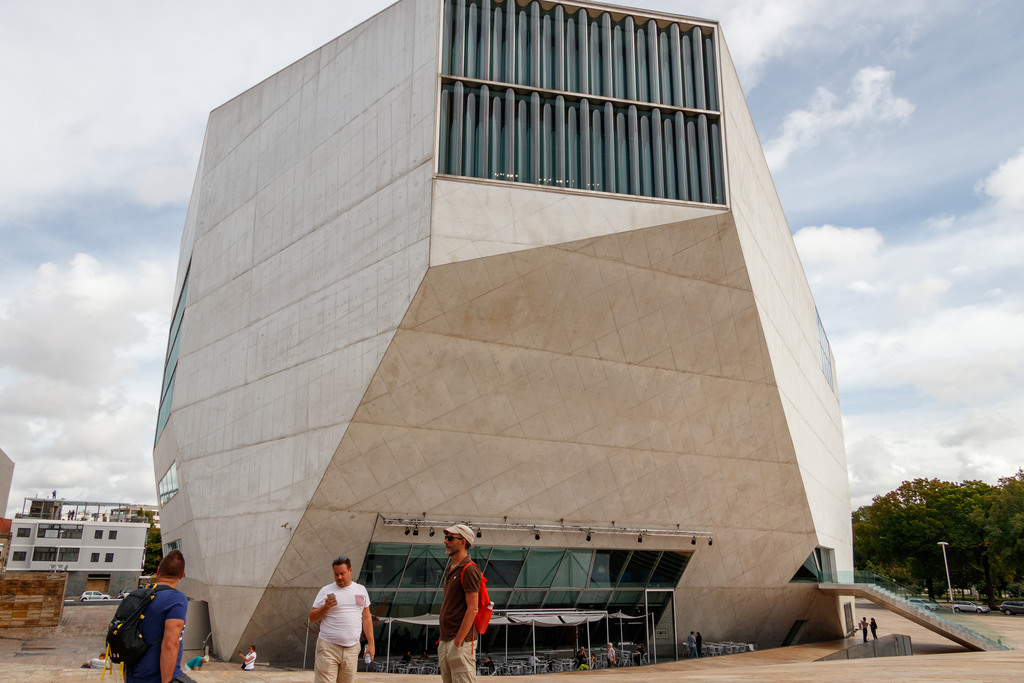musica: (152, 0, 856, 667)
